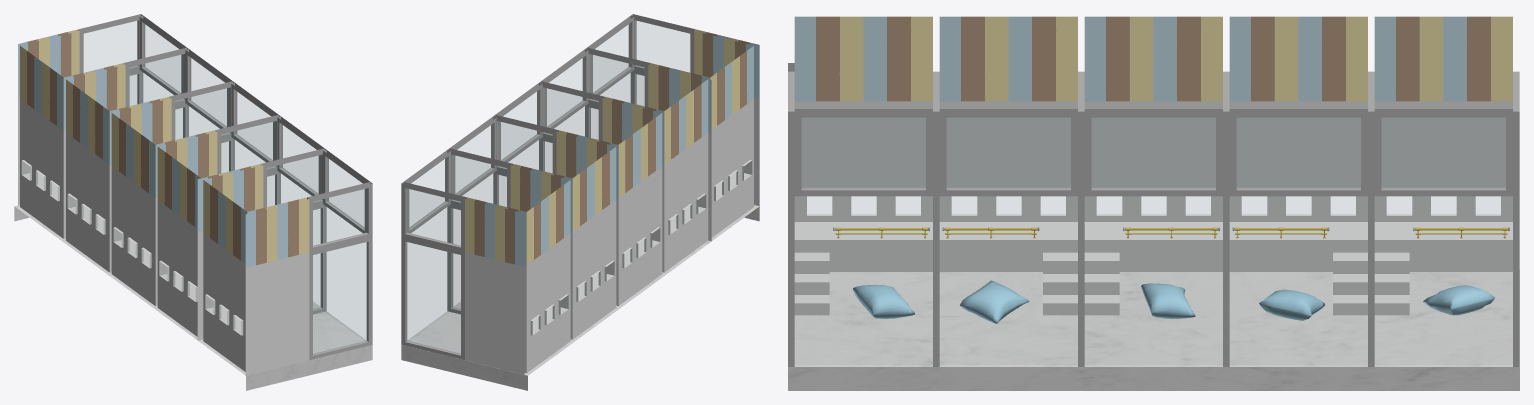
File: Room.fbx
The picture shows the model from 3 angles, left to right: view 1: azimuth 30°, elevation 25°; view 2: azimuth 150°, elevation 25°; view 3: azimuth 270°, elevation 25°; orthographic projection. The views are drawn at different scales.
Visible parts, largest first — view 1: Room; view 2: Room; view 3: Room.
Boxes of the visible parts, x1=… form: Room: x1=14, y1=14, x2=372, y2=390; Room: x1=401, y1=14, x2=759, y2=390; Room: x1=788, y1=16, x2=1519, y2=390.
Bounding box in the file's own units: 28.17 × 37.45 × 89.
7 materials, 4 textured.
